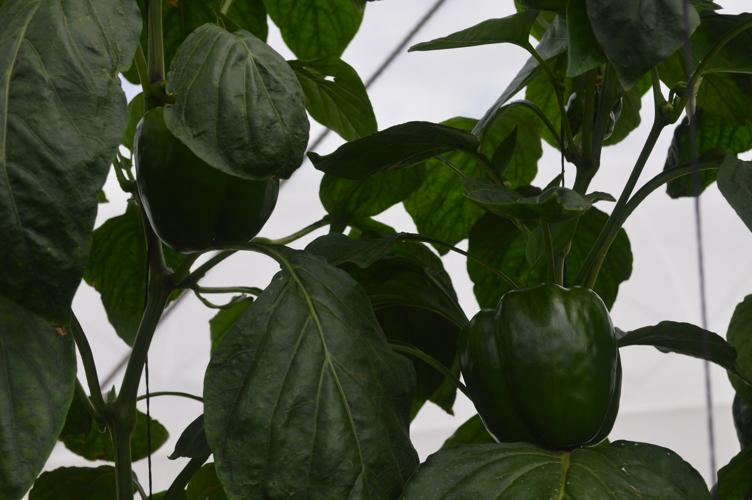BellPepper: (456, 283, 626, 444), (131, 104, 284, 249)
